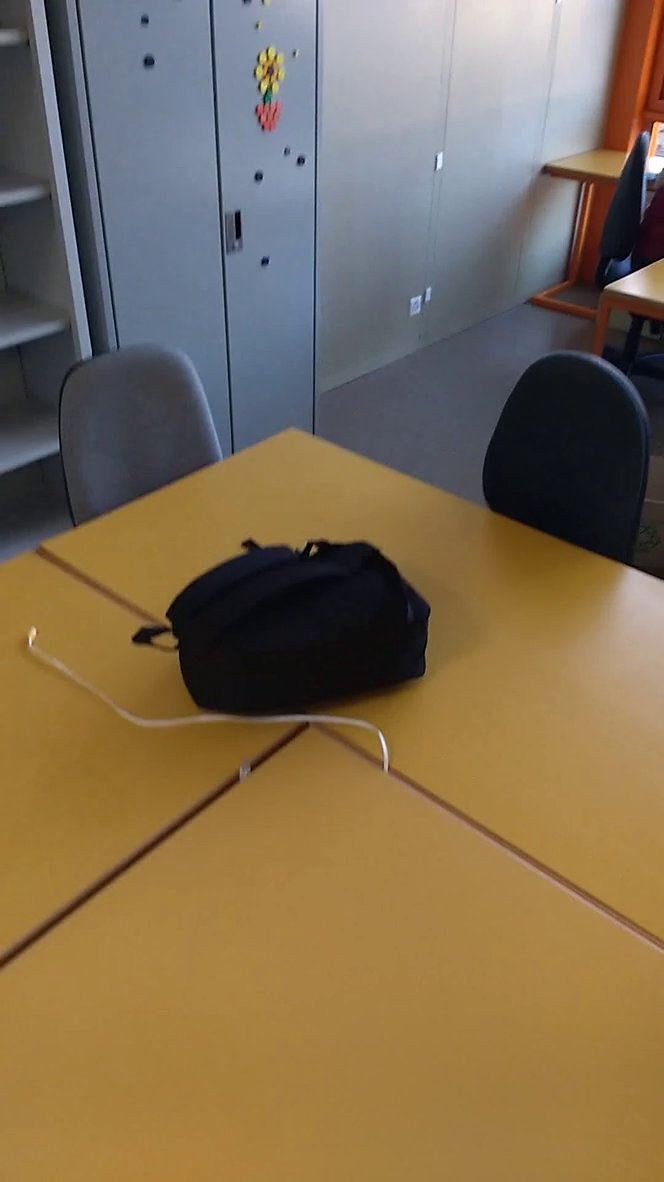bag: (121, 514, 451, 728)
chair: (477, 337, 664, 600), (36, 326, 235, 540)
